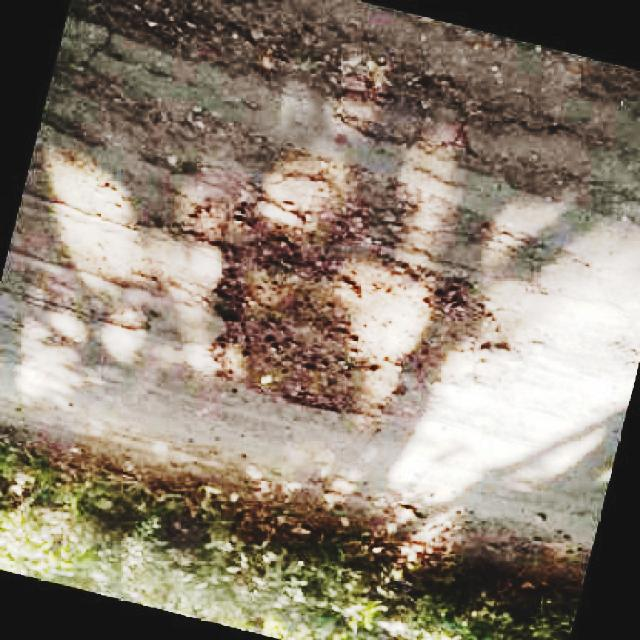pothole: (193, 184, 502, 418), (61, 0, 408, 109)
